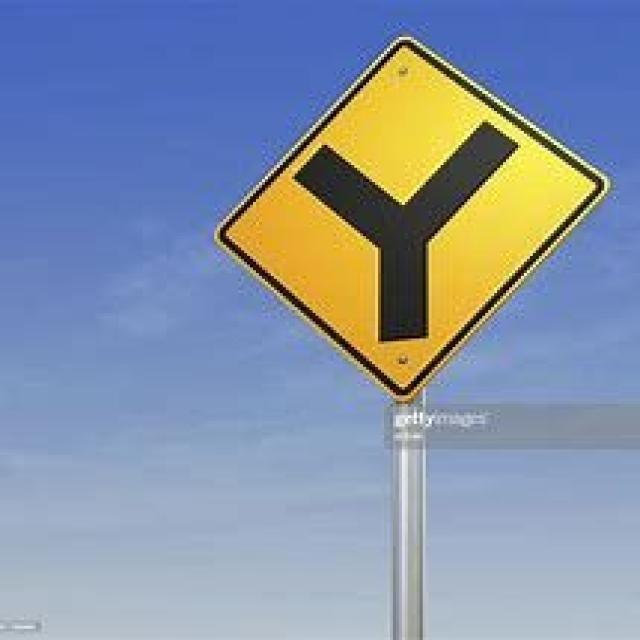y intersection: (215, 39, 608, 388)
